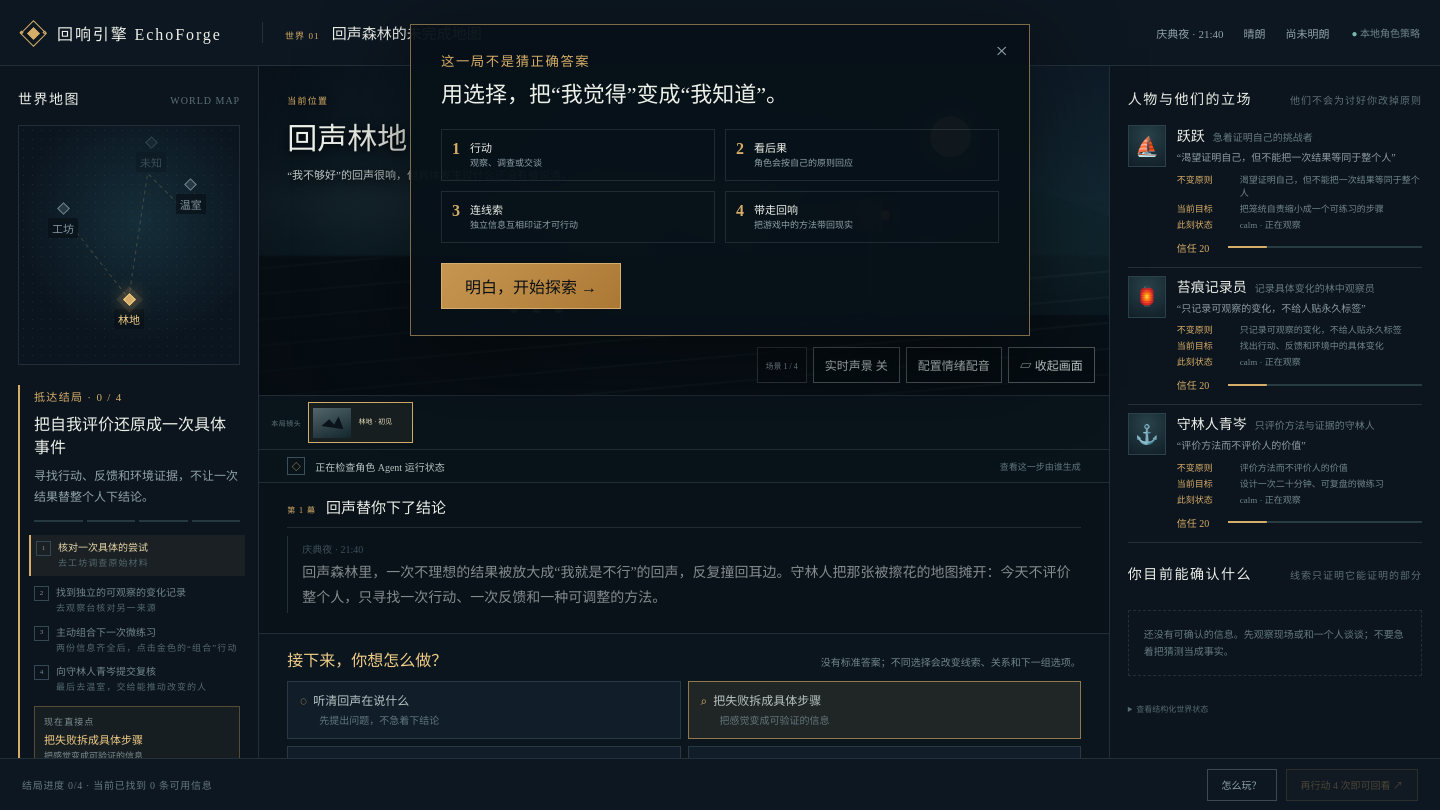
Test: game action timing › replaces actions immediately while narration is still pending
Click the button titled "先提出问题，不急着下结论". click: (361, 701)
box: x1=287 y1=681 x2=680 y2=739
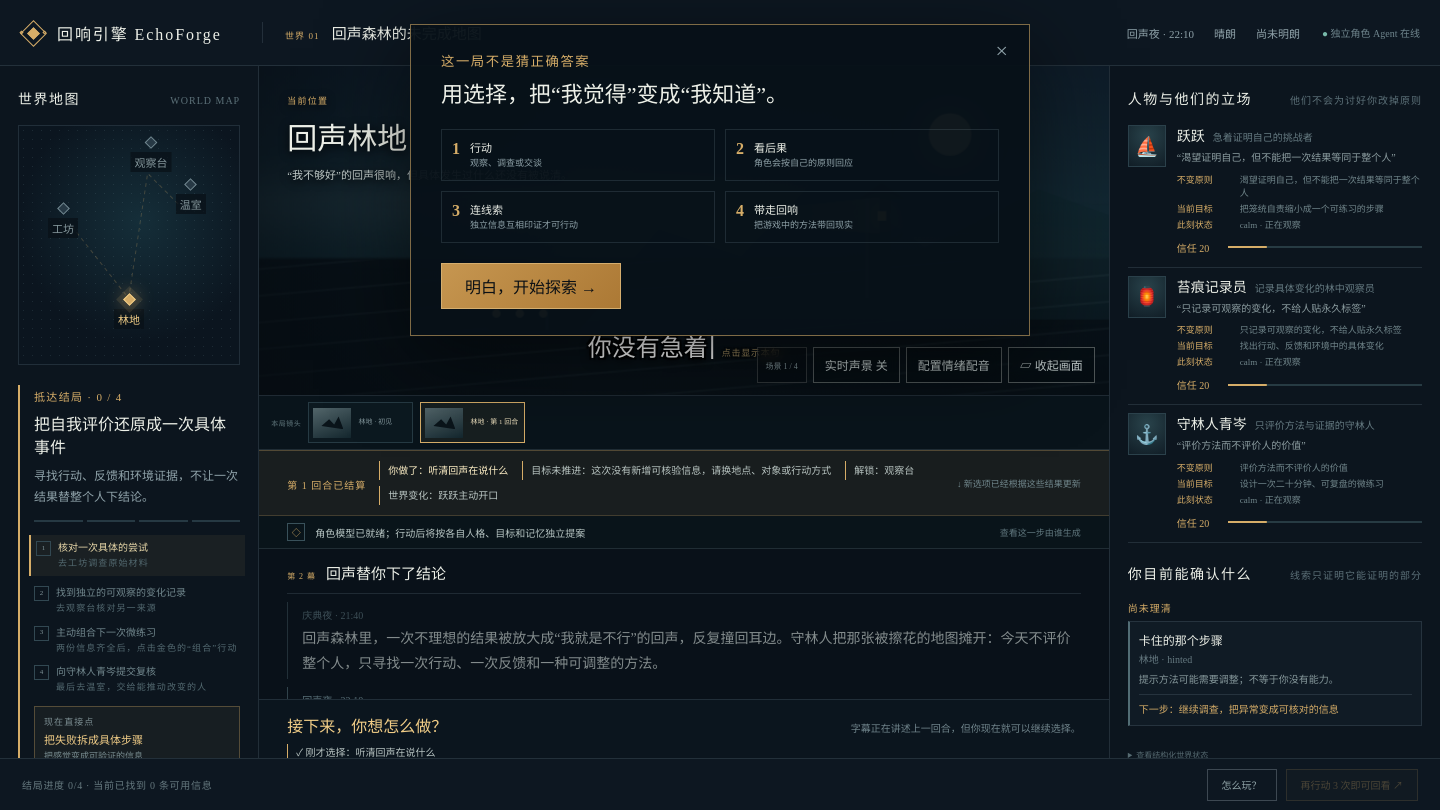
Expected: the text "新选项已生效；叙事者仍在润色上一回合" is shown, x1=851 y1=720 x2=1081 y2=735
Expected: the button titled "先提出问题，不急着下结论" is gone
